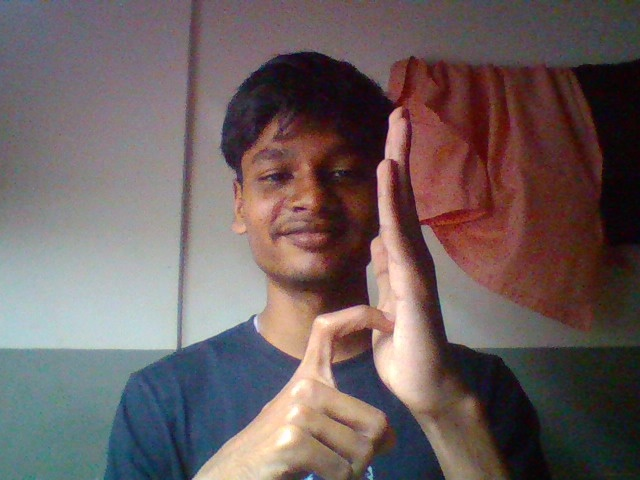H: (155, 86, 522, 480)
